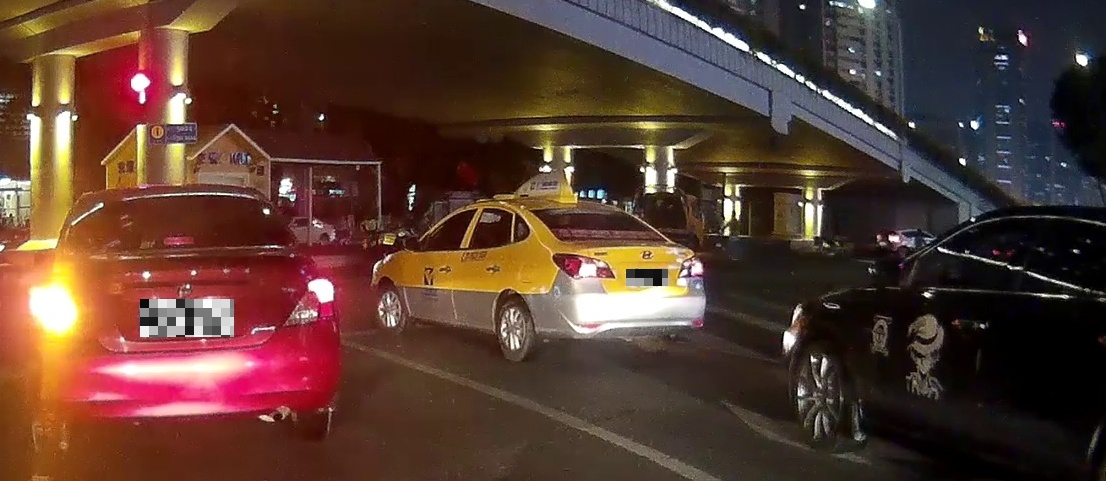L_light: (37, 292, 86, 336), (551, 251, 615, 280)
R_light: (280, 277, 337, 326), (678, 255, 705, 278)
T_light: (162, 234, 196, 246), (575, 208, 601, 212)
night-left: (31, 182, 339, 450)
night-no: (523, 194, 706, 363)
plate_1: (140, 299, 234, 337)
plate_2: (626, 269, 668, 286)
